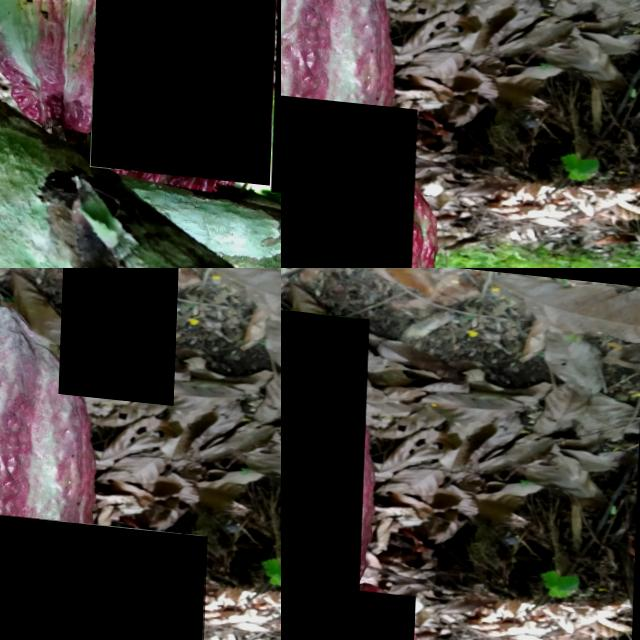Fitoftora: (59, 268, 178, 395)
Monilia: (93, 0, 281, 175), (0, 493, 209, 640), (281, 293, 369, 640), (281, 75, 419, 268)
Sana: (316, 579, 418, 640), (495, 242, 535, 268)
